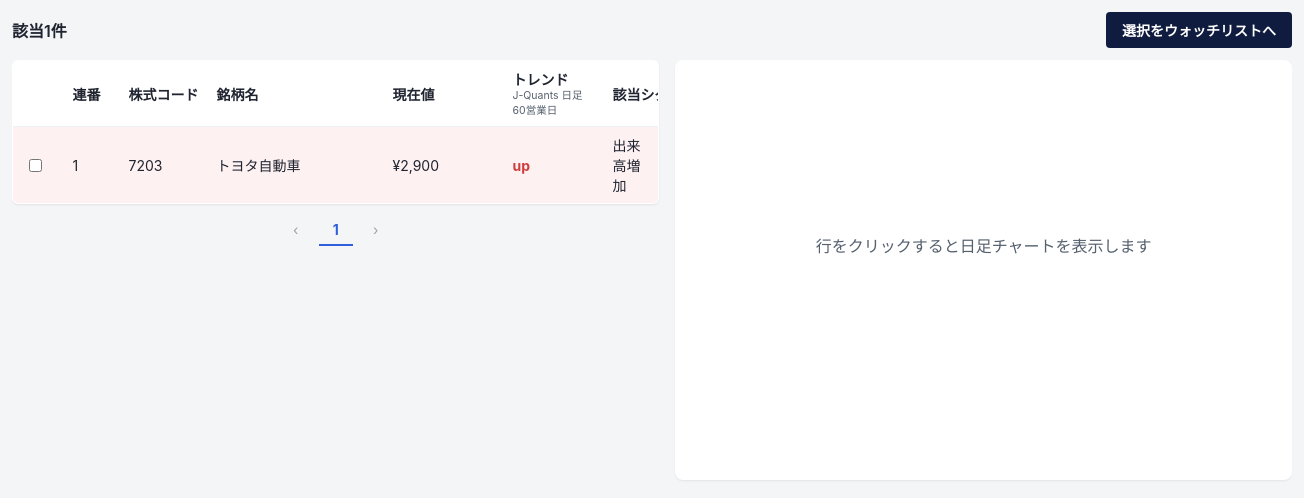
Test: ScreeningResultsPanel errors and notices › does not show a skipped-count note when nothing was skipped
This screenshot has width=1304, height=498.
What coordinates should you click on to do the following:
click the checkbox named "7203を選択"
I would click on:
 (36, 165)
Its box is [29, 159, 42, 172].
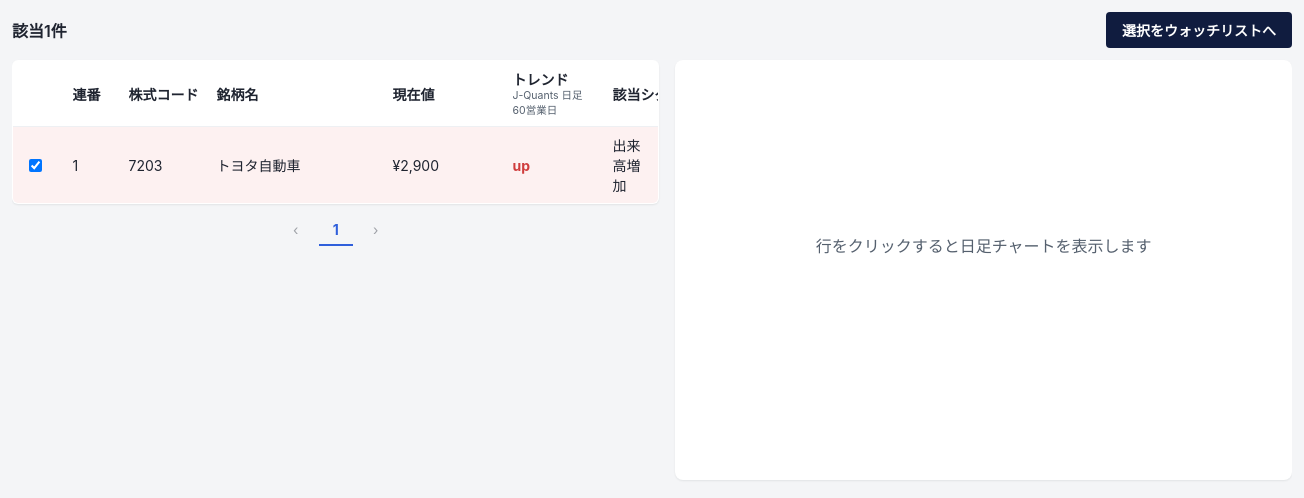
What coordinates should you click on to do the following:
click the button "選択をウォッチリストへ"
I would click on:
 (1199, 30)
Its box is [1106, 12, 1292, 48].
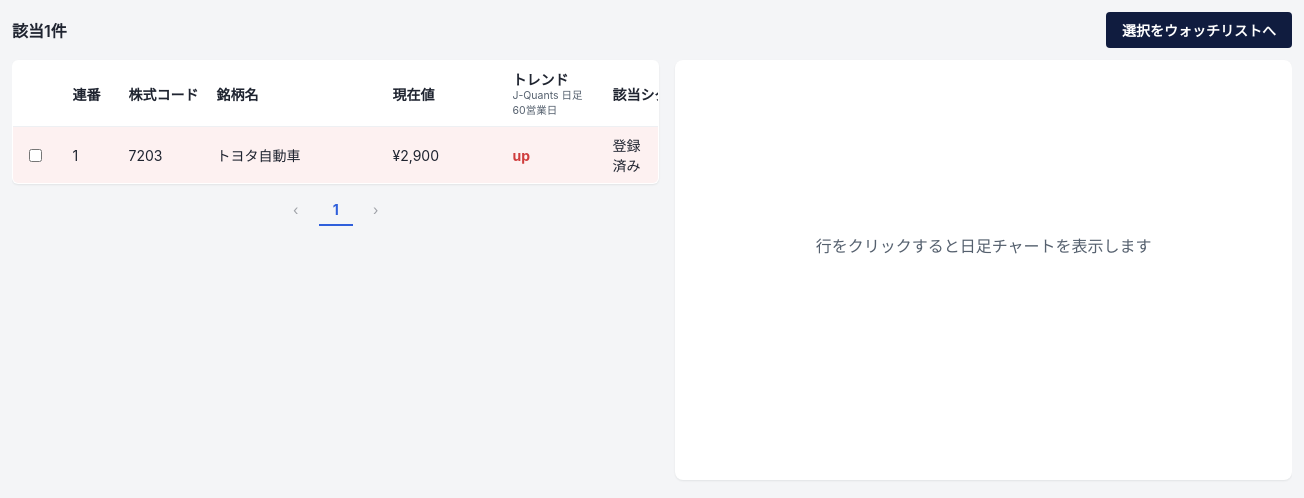
Expected: the text "登録済み" is shown, [600, 127, 659, 184]
